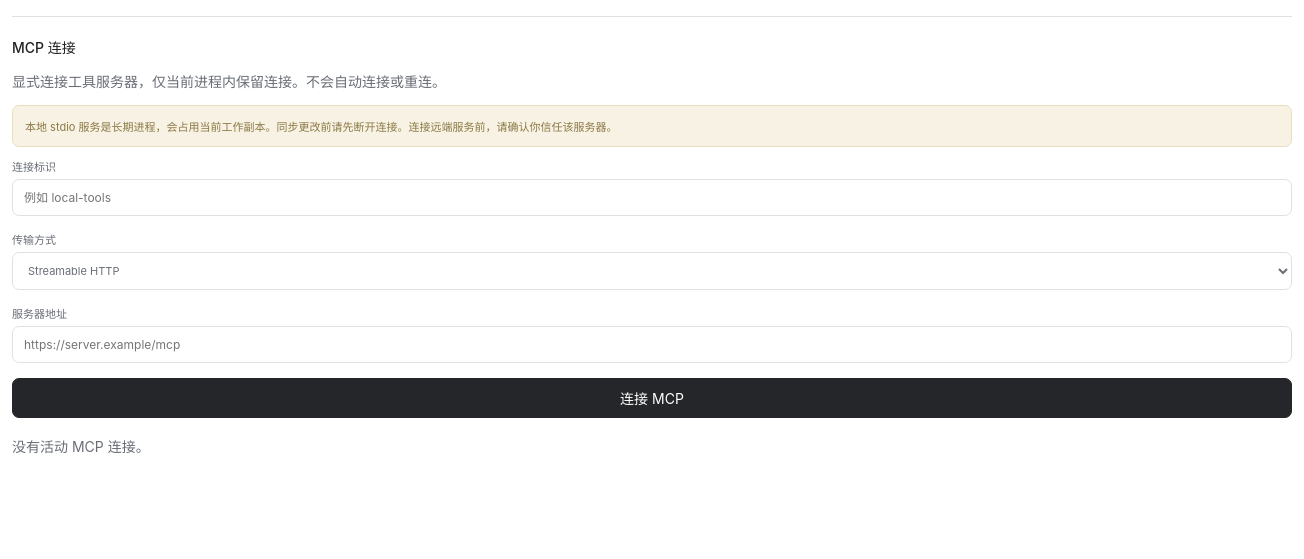
Test: MCP 显式连接 › 不自动连接，HTTP 提交绑定当前工作区并允许显式断开
Expected: the text "没有活动 MCP 连接。" is shown, [12,438,150,455]
Type "remote" into the field labelled "连接标识". click: (652, 198)
box: [12,179,1292,216]
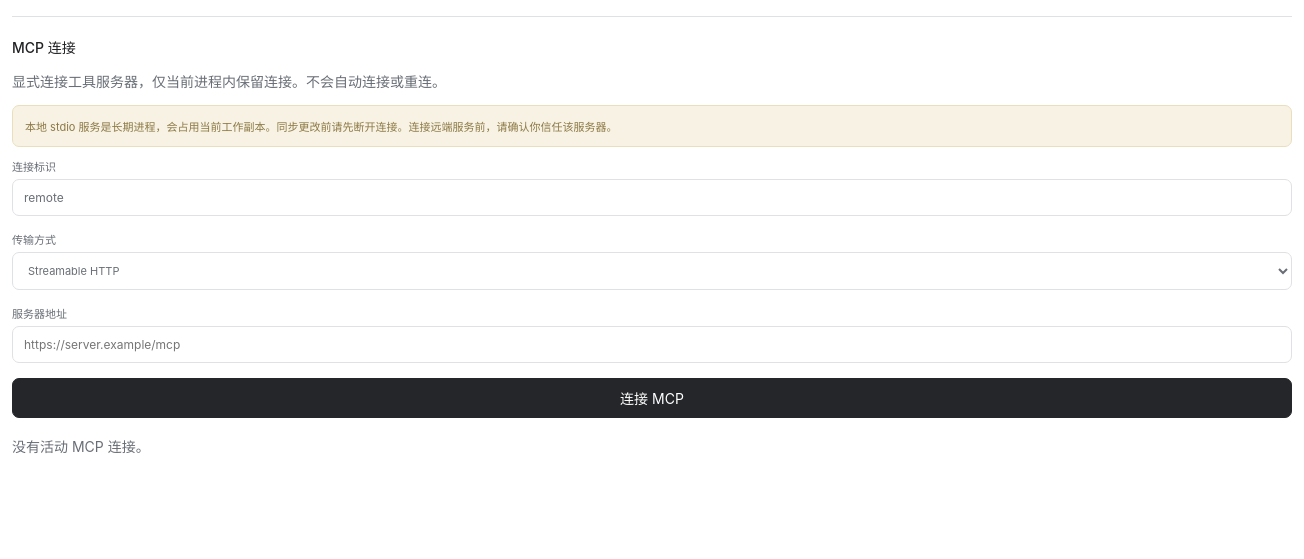
Type "https://example.test/mcp" into the field labelled "服务器地址". click: (652, 344)
box: [12,326,1292,363]
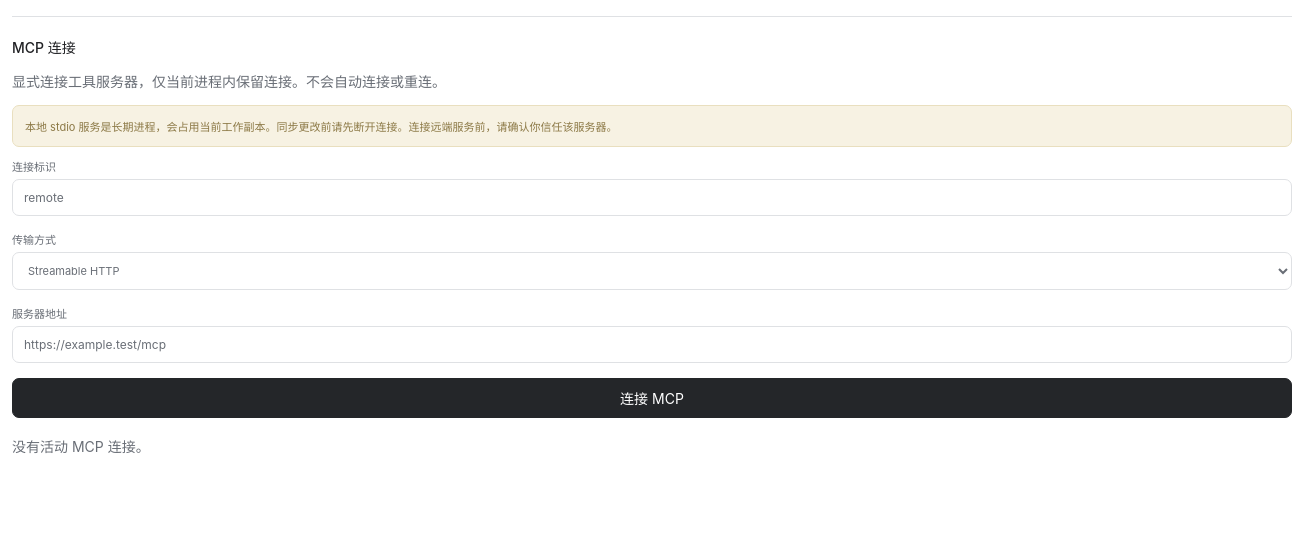
Click the button "连接 MCP". click: (652, 398)
box: [12,378,1292,418]
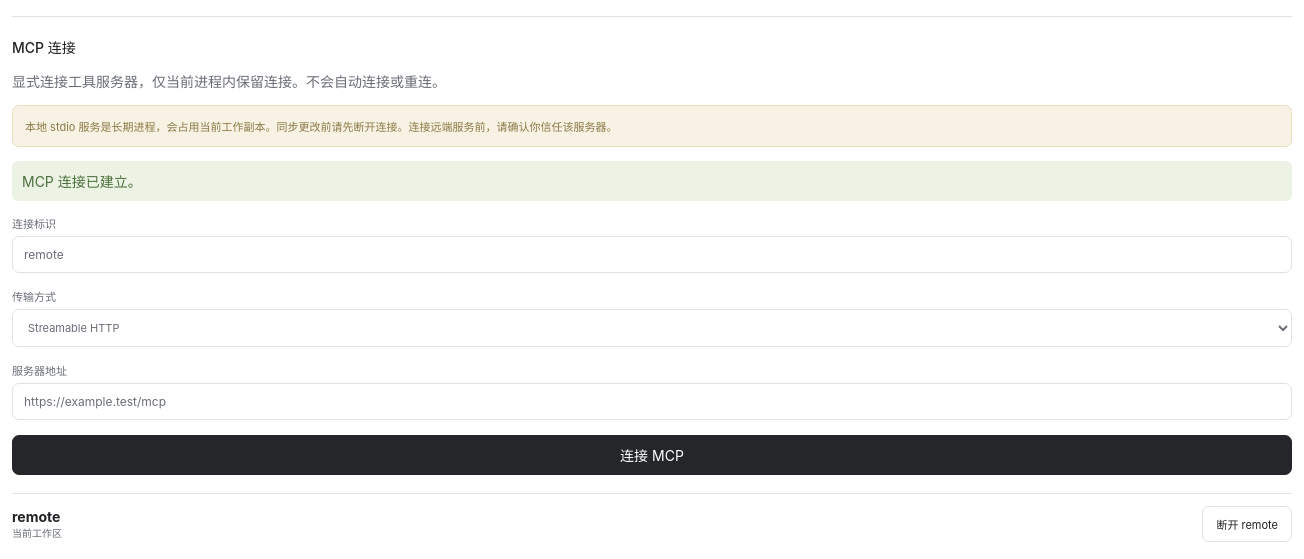
Click the button "断开 remote". click: (1247, 524)
box: [1202,506,1292,542]
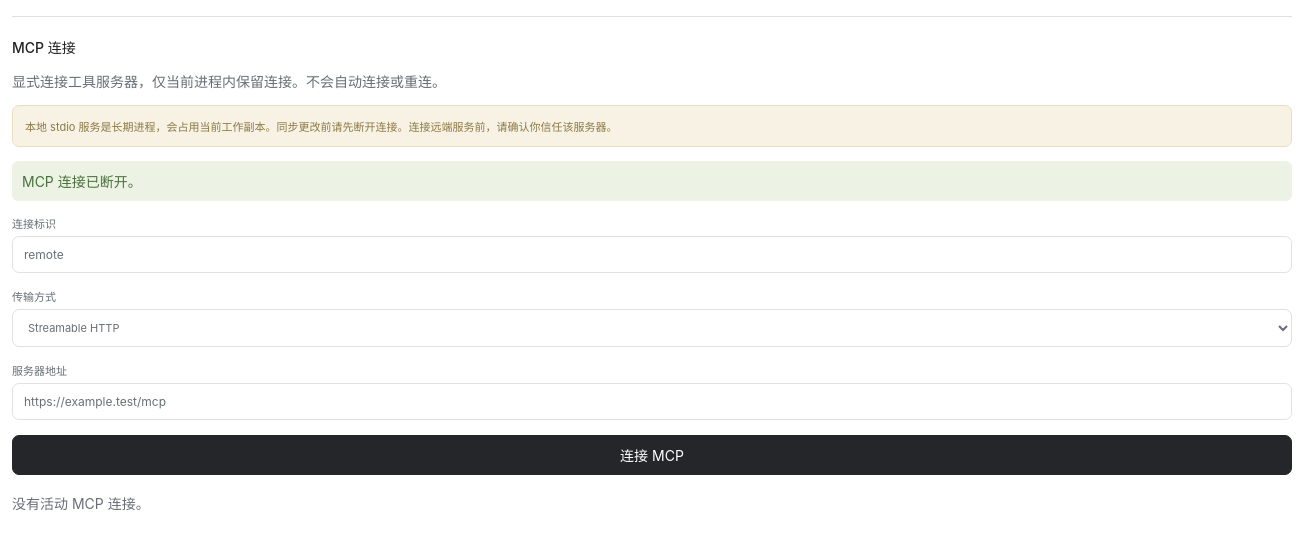
Now the text "MCP 连接已断开。" is shown, box [12,161,1292,201]
